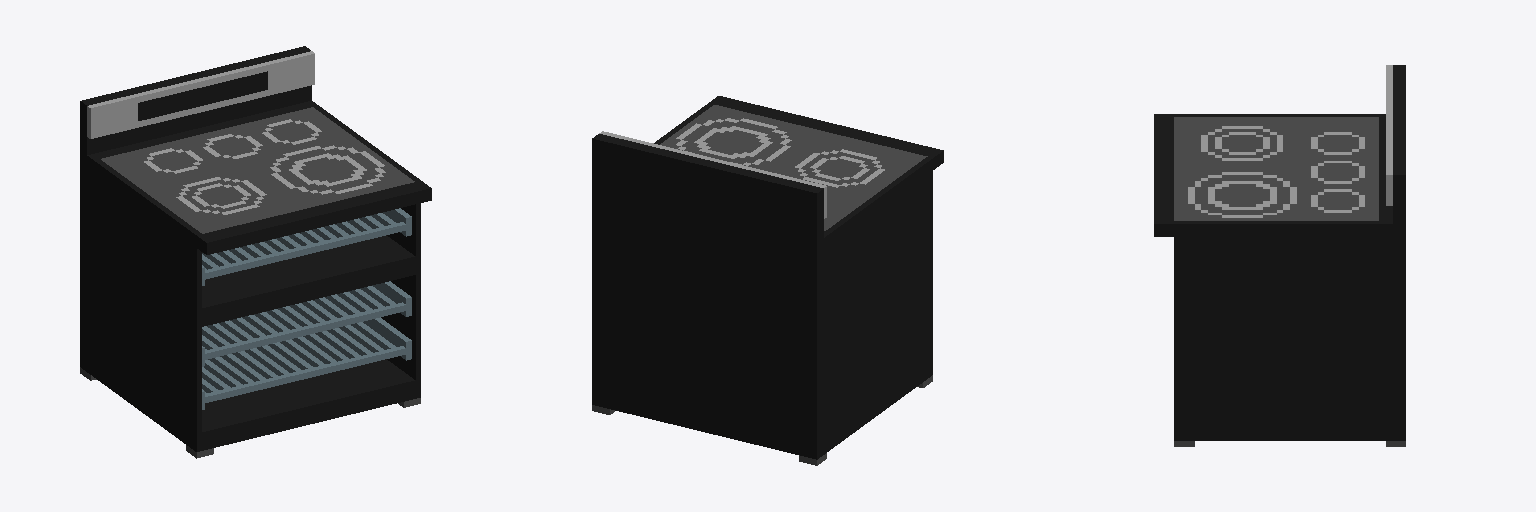
The picture shows the model from 3 angles: view 1: azimuth 30°, elevation 25°; view 2: azimuth 150°, elevation 25°; view 3: azimuth 270°, elevation 25°; orthographic projection.
Visible parts, largest first — view 1: object 1; view 2: object 1; view 3: object 1.
Part boxes in pixels (bbox=[...]): object 1: bbox=[80, 46, 431, 458]; object 1: bbox=[592, 96, 943, 465]; object 1: bbox=[1154, 65, 1405, 446].
Bounding box in the file's own units: 3.8 × 4.4 × 3.7.
1 materials, 1 textured.